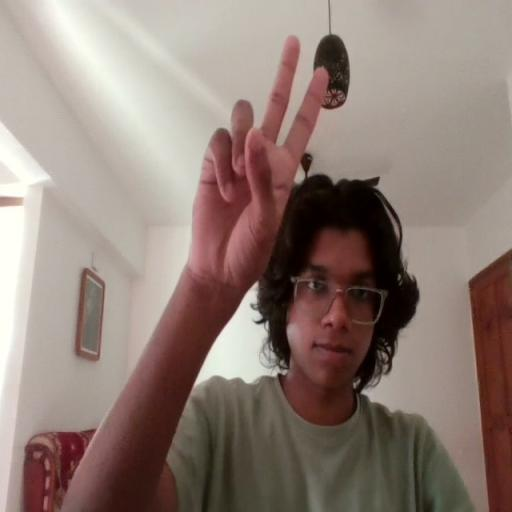scissor: (187, 33, 327, 284)
